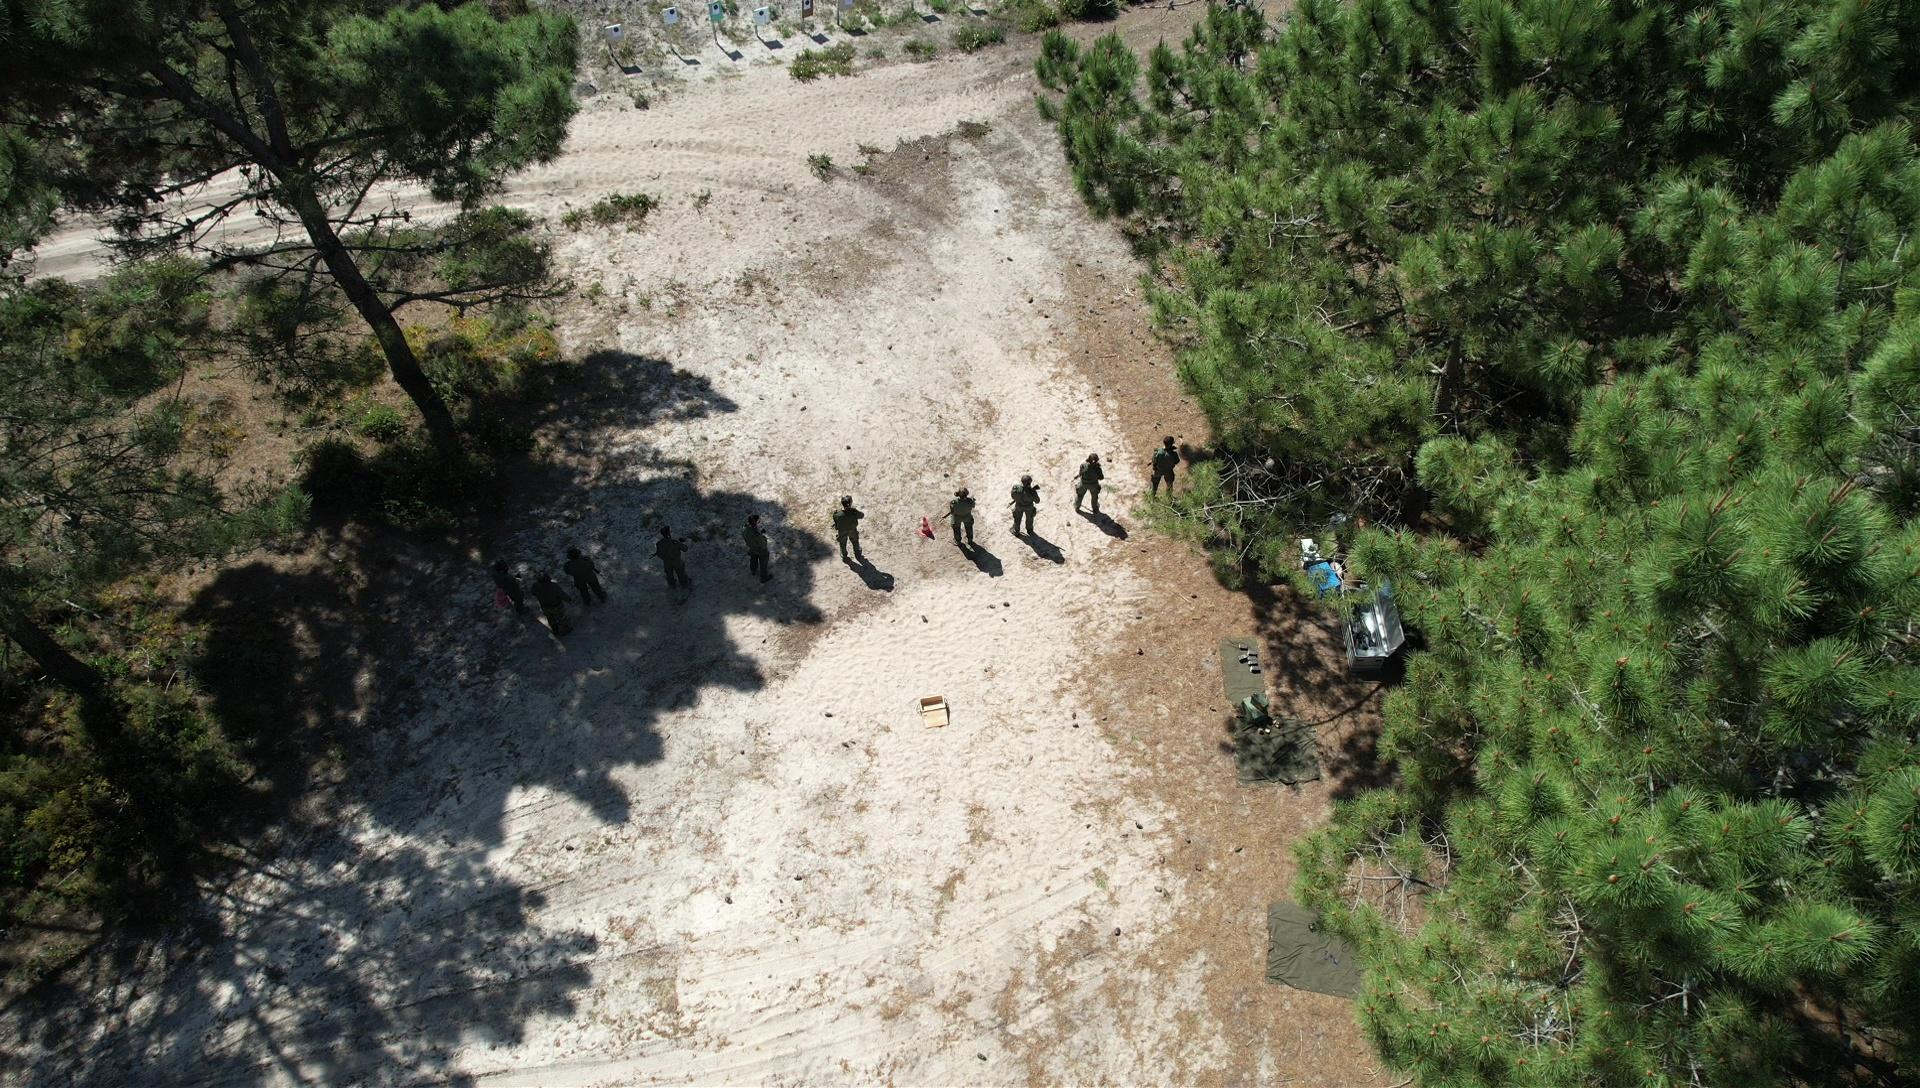Soldier: (998, 468, 1054, 557), (818, 491, 877, 572), (733, 506, 787, 596), (649, 522, 702, 601), (562, 543, 611, 619), (527, 571, 576, 644), (1146, 429, 1189, 506), (943, 487, 984, 563), (1072, 452, 1109, 528), (489, 557, 534, 616)
